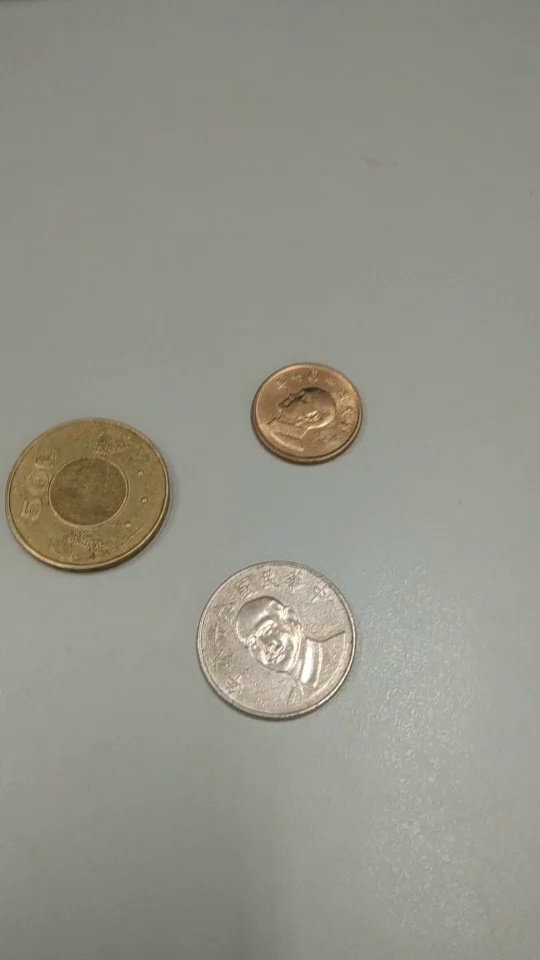NT$ 1: (246, 363, 364, 466)
NT$ 10: (194, 561, 356, 724)
NT$ 50: (2, 416, 171, 579)
